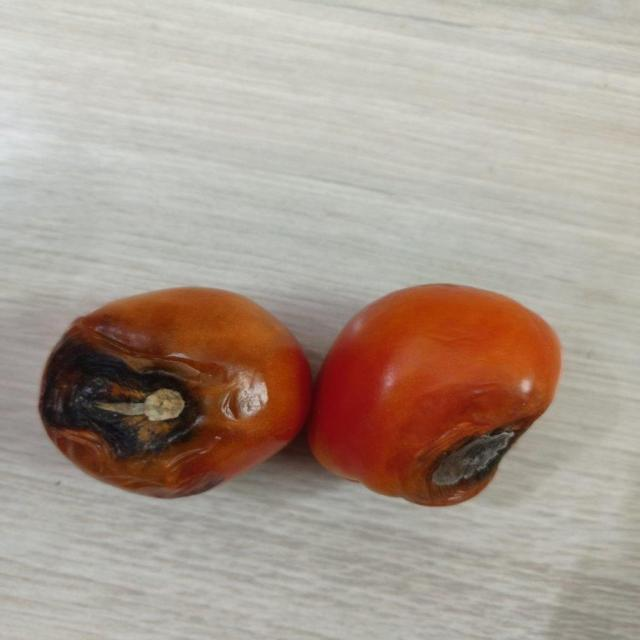Rotten: (41, 283, 314, 498), (316, 282, 562, 509)
